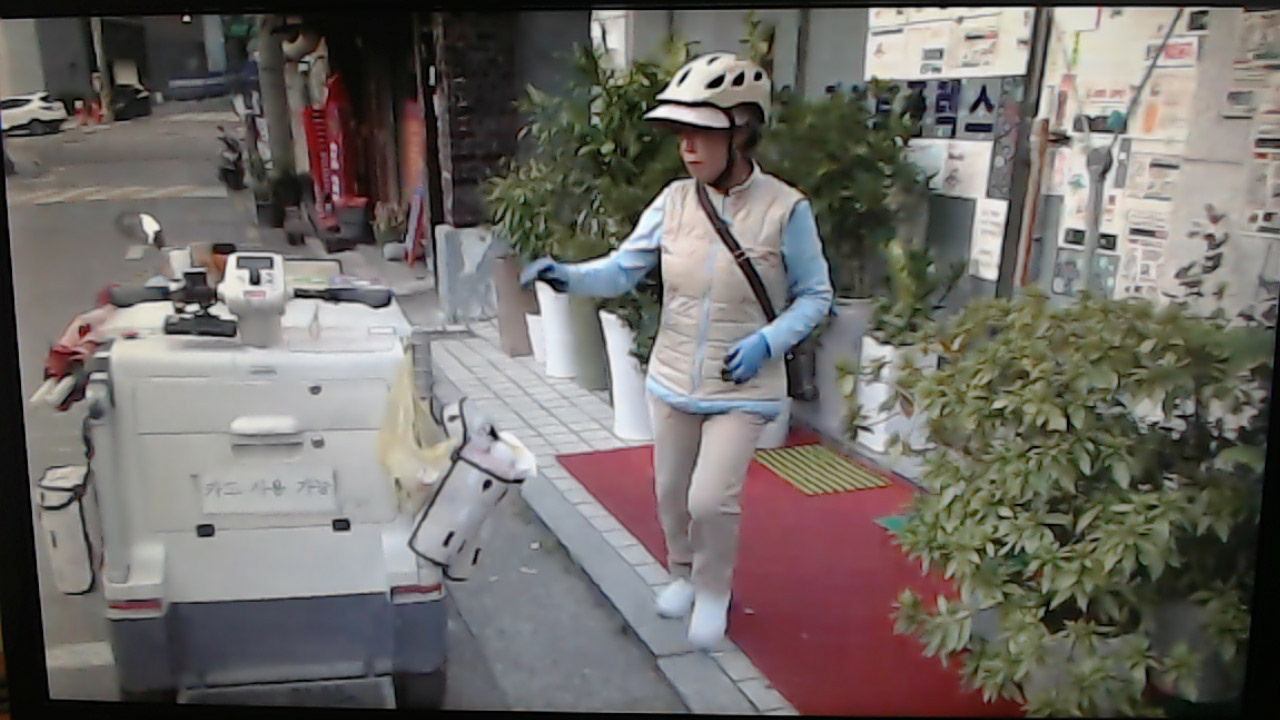Yakurut: (514, 50, 854, 669)
